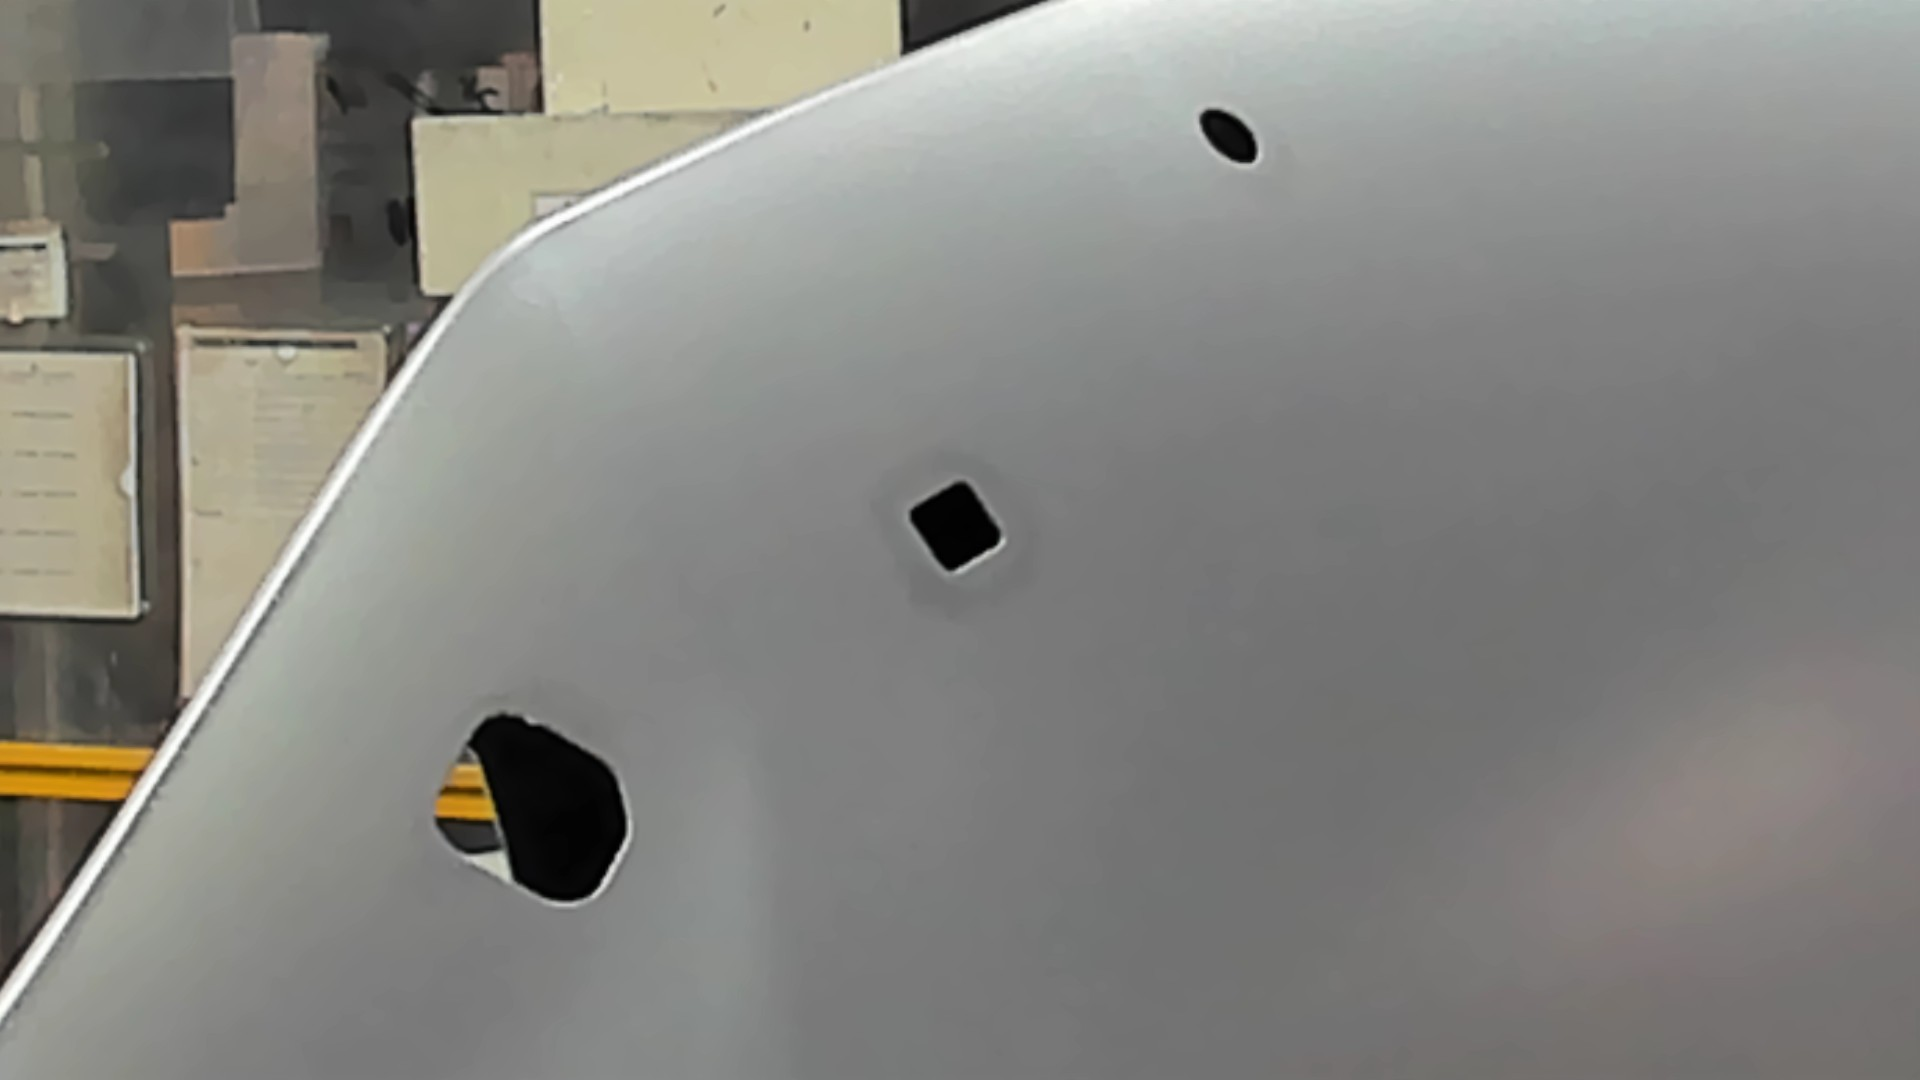chico: (1196, 102, 1269, 171)
grande: (427, 705, 640, 914)
mediano: (901, 473, 1011, 585)
